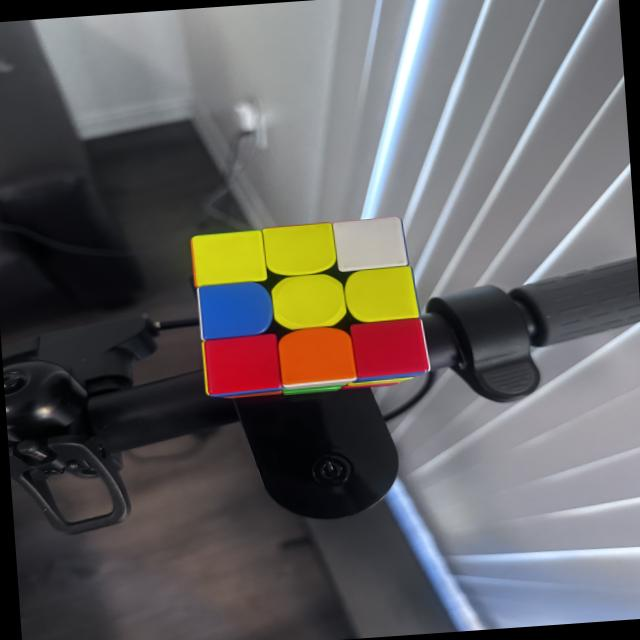sticker: (346, 316, 430, 386), (274, 324, 359, 393), (200, 332, 283, 400), (196, 278, 274, 342), (268, 271, 348, 332), (330, 214, 410, 274), (342, 264, 418, 326), (260, 221, 338, 280), (192, 230, 266, 286)
